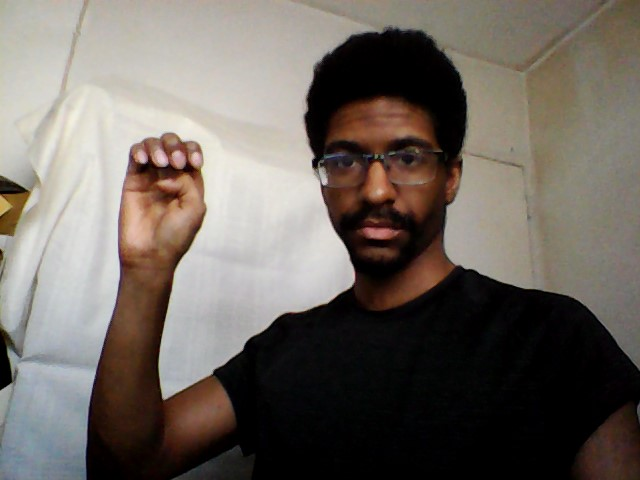e: (111, 128, 210, 266)
